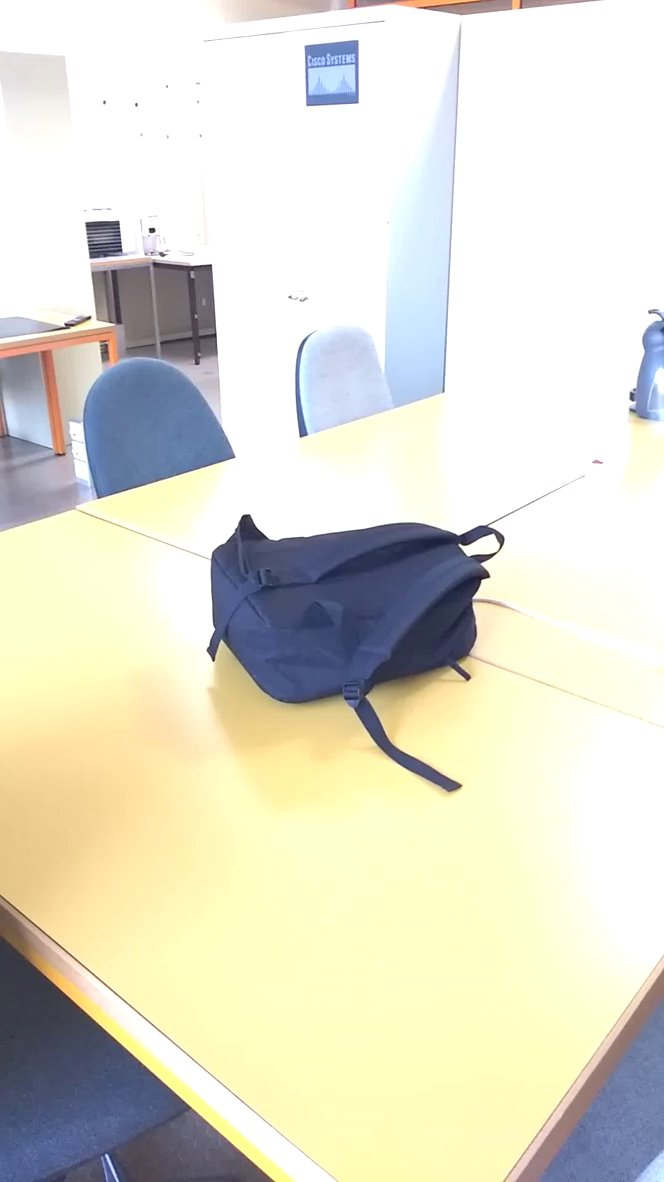bag: (173, 498, 519, 805)
chair: (69, 346, 242, 503), (284, 311, 402, 430)
